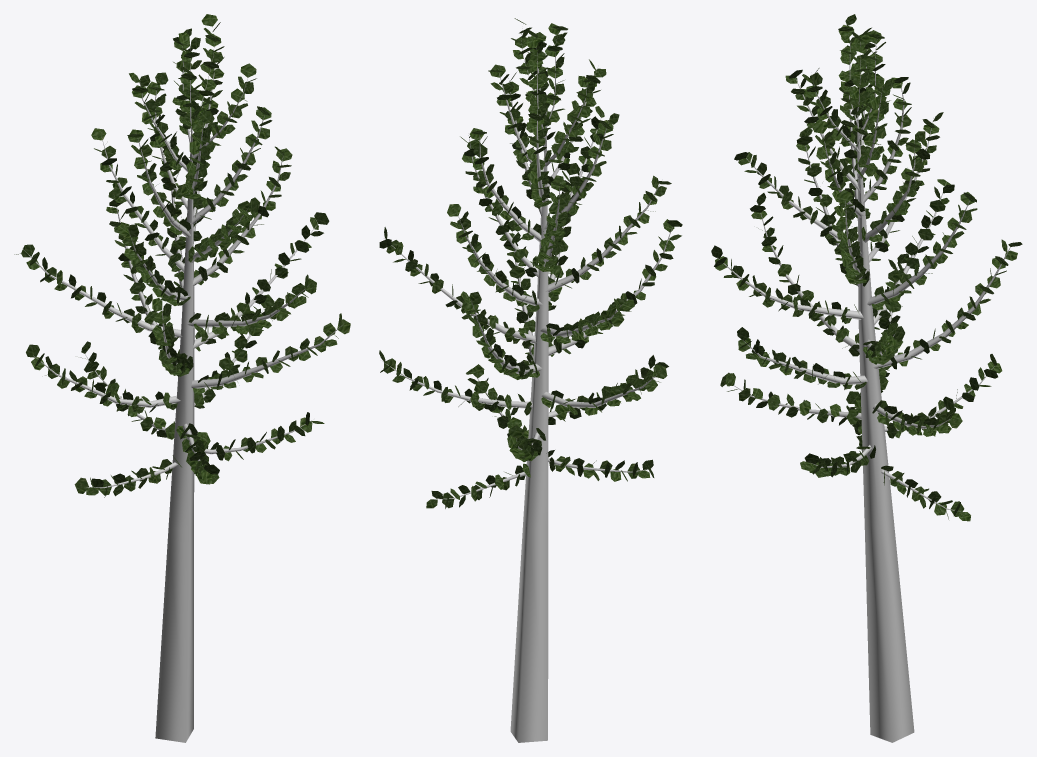
Rendered from arbol.fbx.
3 views of the same model, side by side, from view 1: azimuth 30°, elevation 25°; view 2: azimuth 150°, elevation 25°; view 3: azimuth 270°, elevation 25° (orthographic). The views are drawn at different scales.
Parts seen in each view (by area): view 1: leaves, tree; view 2: leaves, tree; view 3: leaves, tree.
Boxes of the visible parts, x1,y1,x2,y2 form: leaves: [14, 14, 350, 497]; tree: [22, 41, 343, 742]; leaves: [379, 18, 682, 508]; tree: [382, 28, 672, 742]; leaves: [711, 14, 1022, 521]; tree: [717, 33, 1010, 742].
Size of the model in its own units: 2.17 by 5.12 by 2.02.
